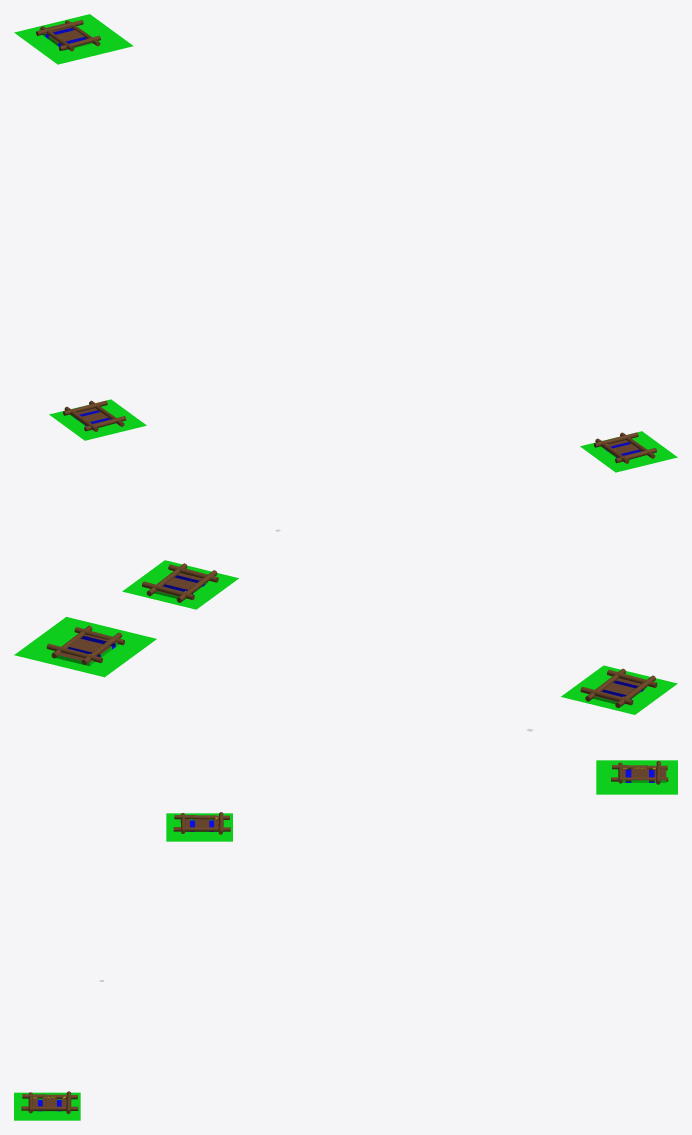
The model's file is farm.glb.
The picture shows the model from 3 angles, top to bottom: view 1: azimuth 30°, elevation 25°; view 2: azimuth 150°, elevation 25°; view 3: azimuth 270°, elevation 25°; orthographic projection. The views are drawn at different scales.
Visible parts, largest first — view 1: Plane.003, Plane.001, Plane.014; view 2: Plane.003, Plane.001, Plane.014, Cylinder.007, Cylinder.008, Cylinder.016; view 3: Plane.003, Plane.001, Plane.014.
Part boxes in pixels (x1,y1,x2,y2): Plane.003: (14, 14, 133, 64); Plane.001: (49, 399, 146, 440); Plane.014: (580, 431, 677, 472); Plane.003: (14, 617, 156, 677); Plane.001: (561, 665, 677, 714); Plane.014: (122, 560, 238, 609); Cylinder.007: (46, 643, 102, 662); Cylinder.008: (580, 686, 633, 705); Cylinder.016: (142, 581, 194, 599); Plane.003: (596, 760, 677, 794); Plane.001: (166, 813, 232, 841); Plane.014: (14, 1092, 80, 1120).
Size of the model in its own units: 250 by 124 by 303.
